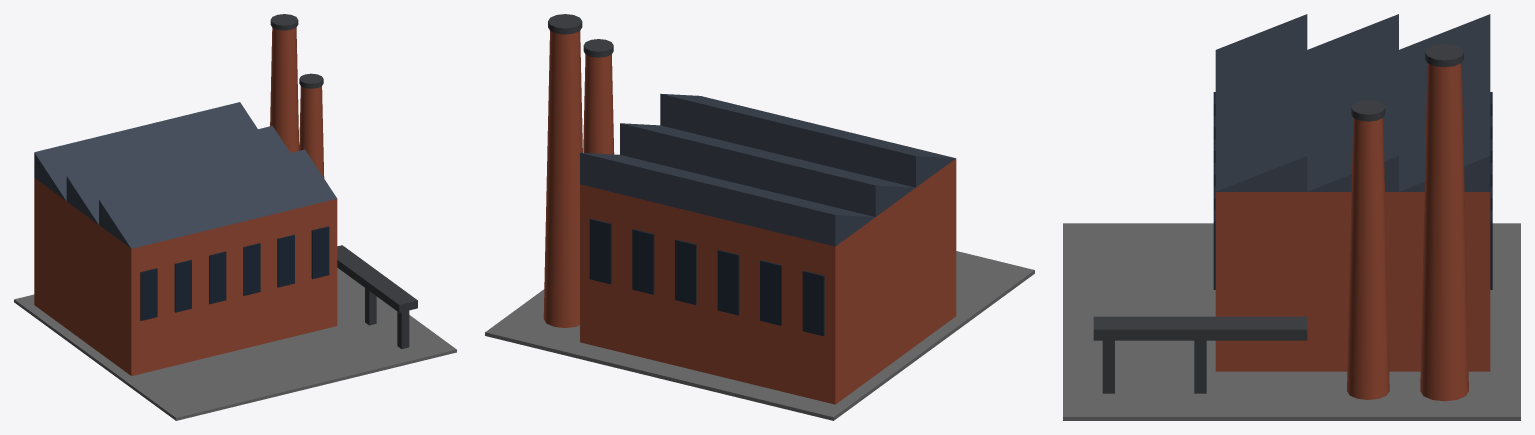
Rendered from bld_special_factory_a05.glb.
3 views of the same model, side by side, from view 1: azimuth 30°, elevation 25°; view 2: azimuth 150°, elevation 25°; view 3: azimuth 270°, elevation 25° (orthographic). The views are drawn at different scales.
Parts seen in each view (by area): view 1: body; view 2: body; view 3: body.
Part boxes in pixels (x1,y1,x2,y2): body: (14, 14, 456, 420); body: (485, 14, 1034, 420); body: (1063, 14, 1520, 420).
Size of what is drawn, in the model's own units: 15 by 12.4 by 15.
